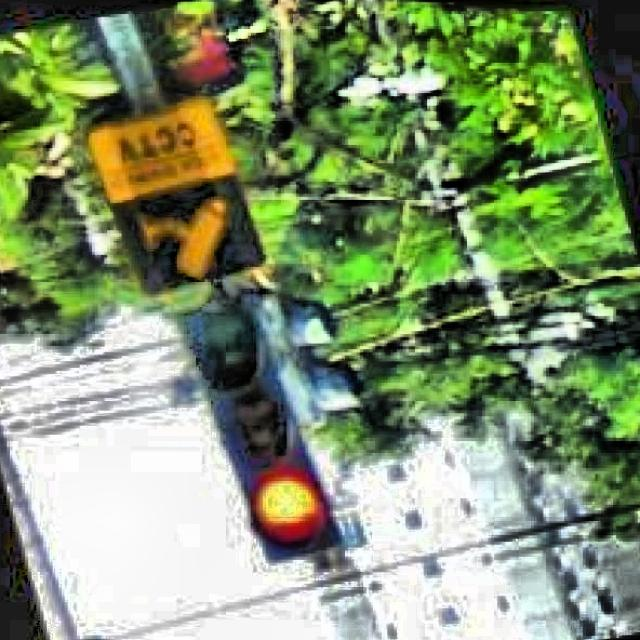red: (177, 306, 347, 557)
